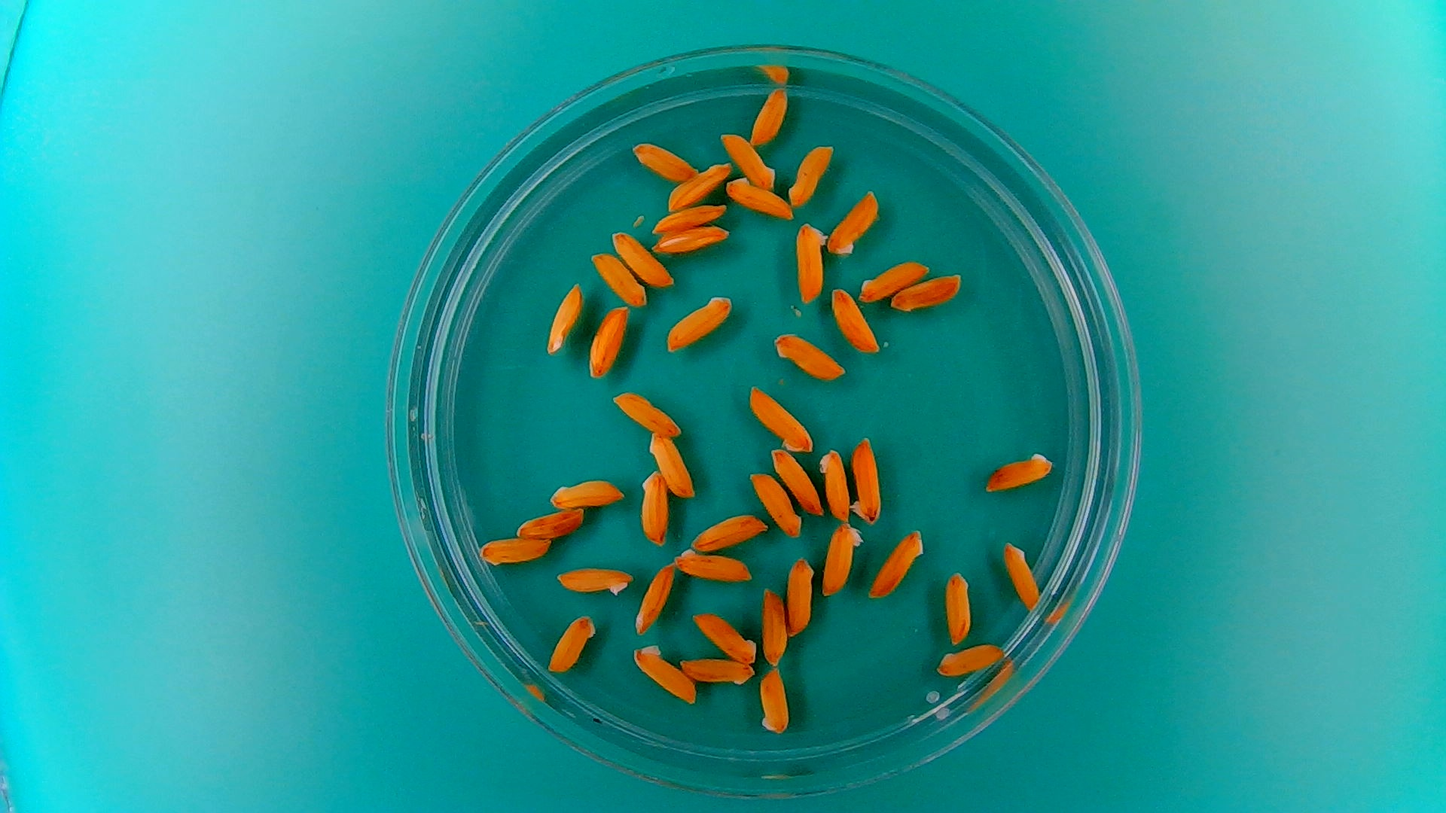no: (746, 382, 816, 454), (867, 525, 927, 601), (662, 291, 735, 353), (630, 640, 697, 706), (769, 330, 848, 382), (769, 445, 825, 518), (746, 469, 804, 539), (689, 607, 759, 665), (825, 187, 880, 257), (611, 230, 674, 288), (819, 519, 865, 598), (687, 510, 769, 553), (828, 286, 879, 355), (609, 389, 682, 437), (586, 303, 632, 379), (981, 449, 1057, 495), (647, 429, 696, 500), (665, 161, 732, 212), (632, 559, 676, 636), (546, 611, 598, 675), (859, 257, 929, 303), (849, 433, 884, 525), (673, 546, 755, 585), (721, 131, 776, 189), (724, 176, 794, 221), (1000, 537, 1042, 612), (890, 271, 966, 312), (543, 280, 584, 356), (788, 142, 834, 209), (933, 639, 1007, 679), (552, 563, 636, 598), (548, 474, 627, 510), (636, 465, 670, 547), (817, 446, 853, 523), (795, 220, 828, 303), (758, 583, 790, 668), (631, 140, 697, 181), (475, 534, 553, 568), (942, 567, 975, 647), (785, 552, 816, 637), (677, 653, 755, 686), (757, 665, 791, 738), (651, 223, 731, 254), (651, 202, 728, 234), (513, 507, 587, 540), (749, 85, 789, 146)
